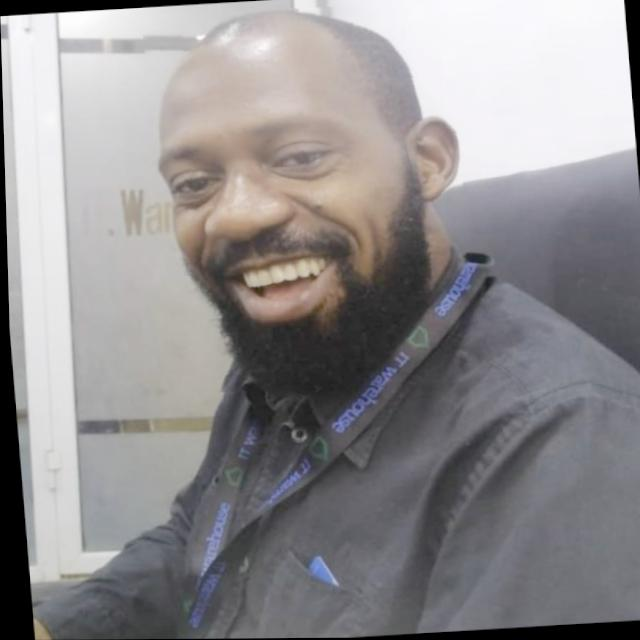happy: (136, 0, 477, 399)
